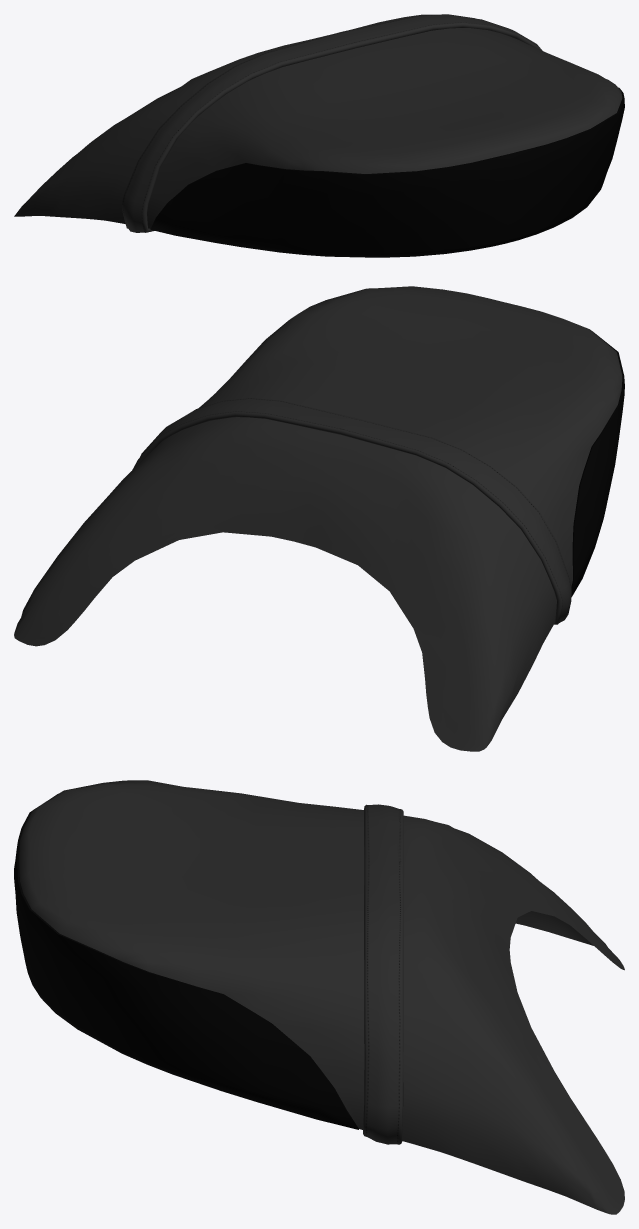
File: PassengerSeat_GEL_CARBON_2K.glb
The picture shows the model from 3 angles, top to bottom: view 1: azimuth 30°, elevation 25°; view 2: azimuth 150°, elevation 25°; view 3: azimuth 270°, elevation 25°; orthographic projection. The views are drawn at different scales.
Visible parts, largest first — view 1: PassengerSeat_GEL_CARBON_2K, PassengerSeat_GEL_CARBON_STRAP_2K; view 2: PassengerSeat_GEL_CARBON_2K, PassengerSeat_GEL_CARBON_STRAP_2K; view 3: PassengerSeat_GEL_CARBON_2K, PassengerSeat_GEL_CARBON_STRAP_2K.
Part boxes in pixels (bbox=[...]): PassengerSeat_GEL_CARBON_2K: bbox=[14, 14, 624, 257]; PassengerSeat_GEL_CARBON_STRAP_2K: bbox=[122, 14, 542, 232]; PassengerSeat_GEL_CARBON_2K: bbox=[14, 286, 624, 751]; PassengerSeat_GEL_CARBON_STRAP_2K: bbox=[132, 398, 571, 624]; PassengerSeat_GEL_CARBON_2K: bbox=[14, 780, 624, 1214]; PassengerSeat_GEL_CARBON_STRAP_2K: bbox=[363, 804, 403, 1144].
Bounding box in the file's own units: 0.3859 × 0.1602 × 0.3791.
3 materials, 3 textured.
